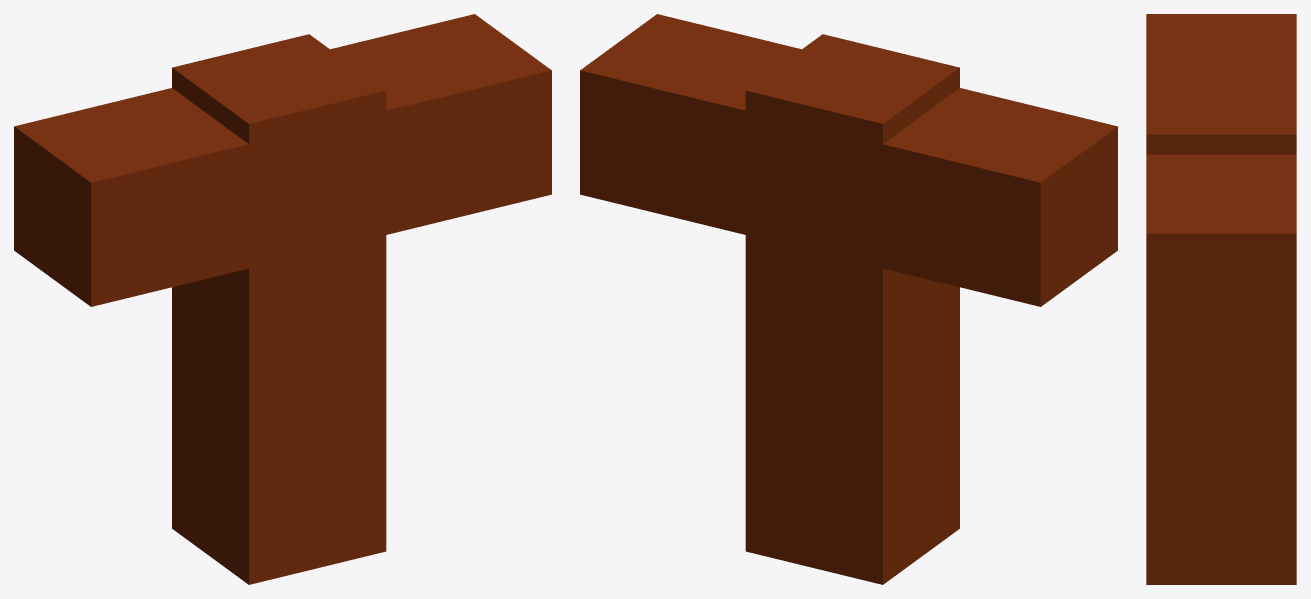
File: MainHammer.obj
The picture shows the model from 3 angles, left to right: view 1: azimuth 30°, elevation 25°; view 2: azimuth 150°, elevation 25°; view 3: azimuth 270°, elevation 25°; orthographic projection. The views are drawn at different scales.
Visible parts, largest first — view 1: 立方体; view 2: 立方体; view 3: 立方体.
Part boxes in pixels (bbox=[...]): 立方体: bbox=[14, 14, 551, 584]; 立方体: bbox=[580, 14, 1117, 584]; 立方体: bbox=[1146, 14, 1296, 584].
Size of the model in its own units: 2.75 by 2.63 by 0.797.
